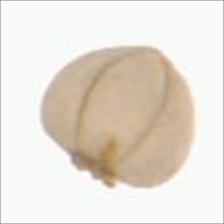L5: (75, 46, 172, 162), (67, 151, 132, 190)
L6: (39, 43, 198, 191)
